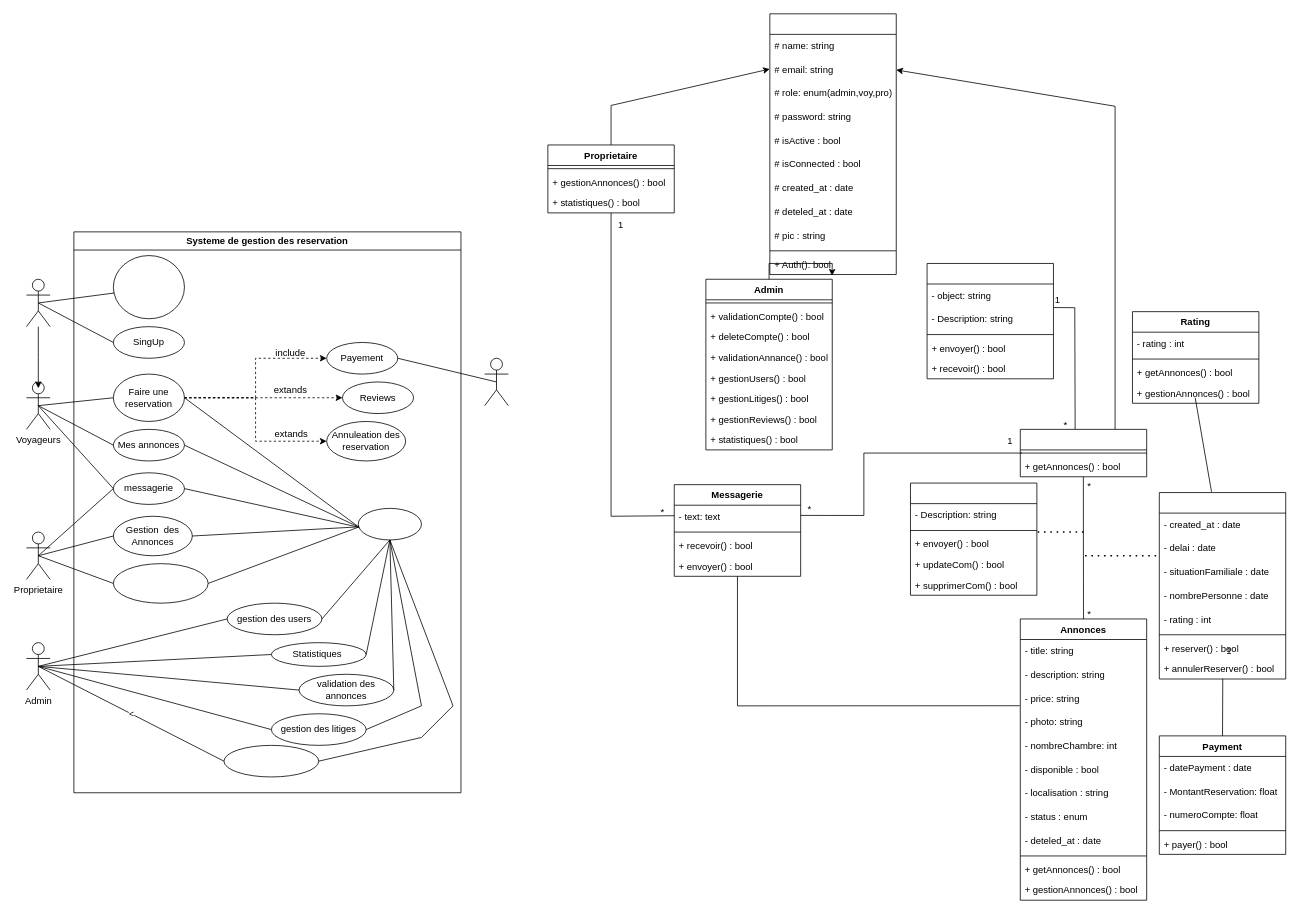
Some shapes in this 1300 by 916 pixel diagram are drawn without their labels. Here are the shapes that lost their labels. From the top down, the box of each, then its label:
(769, 13, 896, 275): - Abstract - User
(26, 278, 50, 327): Visiteur
(113, 255, 184, 319): Consulter la liste des annonces
(926, 263, 1053, 379): Declaration
(484, 357, 508, 406): bank
(1019, 429, 1147, 477): Voyageur
(357, 508, 421, 540): Auth
(910, 482, 1037, 595): Commentaire
(113, 563, 208, 603): Statestiques des Annonces
(1159, 492, 1286, 679): Reservation
(223, 745, 319, 777): gestion reviews
